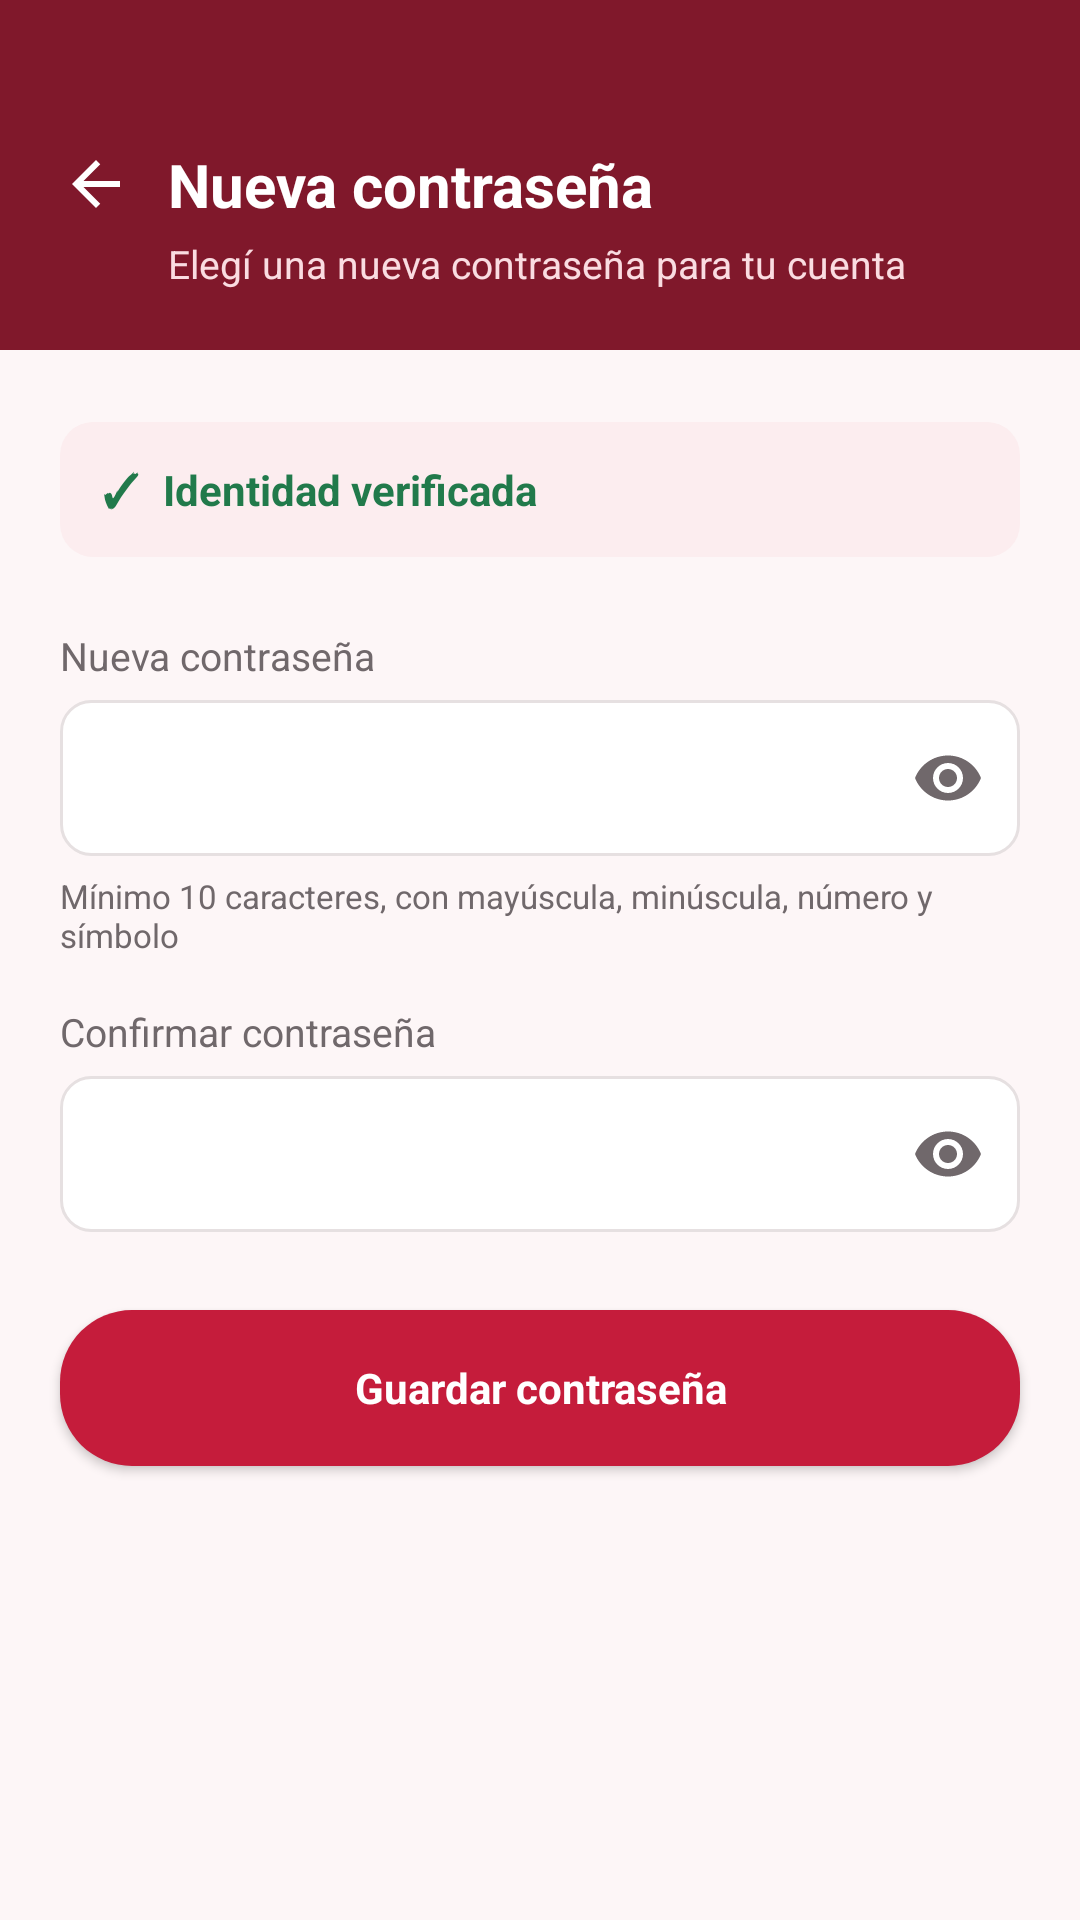

Locate icon controls on the screen. Image size 1080 × 1920, boxes as (x1, y1, x2, y2).
Mostrar confirmación de contraseña: (915, 1131, 981, 1177)
Mostrar contraseña: (915, 755, 981, 801)
Volver: (72, 160, 120, 208)
